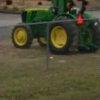Tractor: (12, 3, 98, 62)
